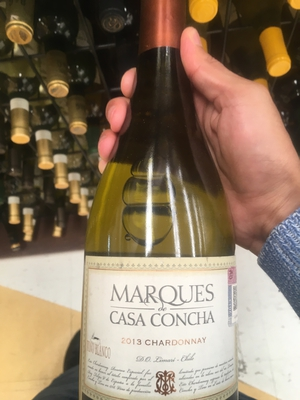marques de casa concha chardonnay: (71, 14, 246, 400)
